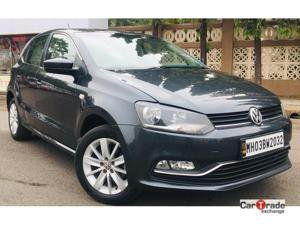car: (5, 24, 290, 194)
